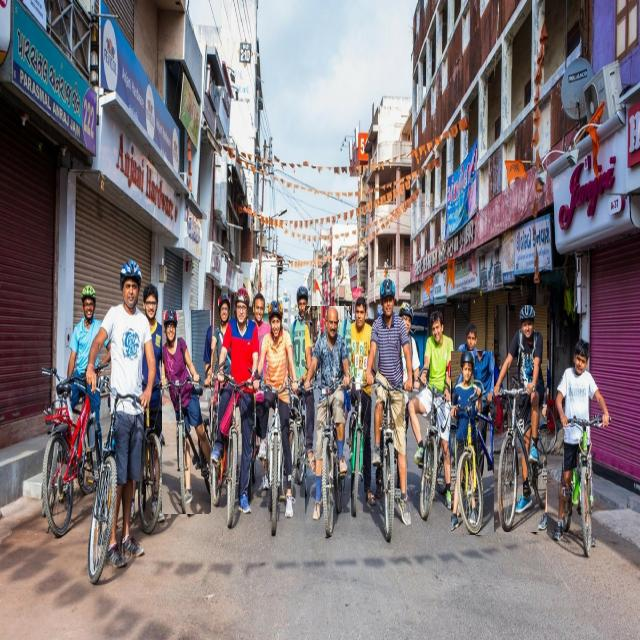bicycle: (86, 260, 156, 583), (554, 339, 610, 557), (366, 277, 412, 540), (495, 305, 547, 532), (211, 287, 258, 527), (305, 306, 351, 537), (162, 310, 211, 514), (409, 311, 455, 518), (258, 301, 298, 534), (451, 351, 499, 535), (341, 296, 375, 515)
